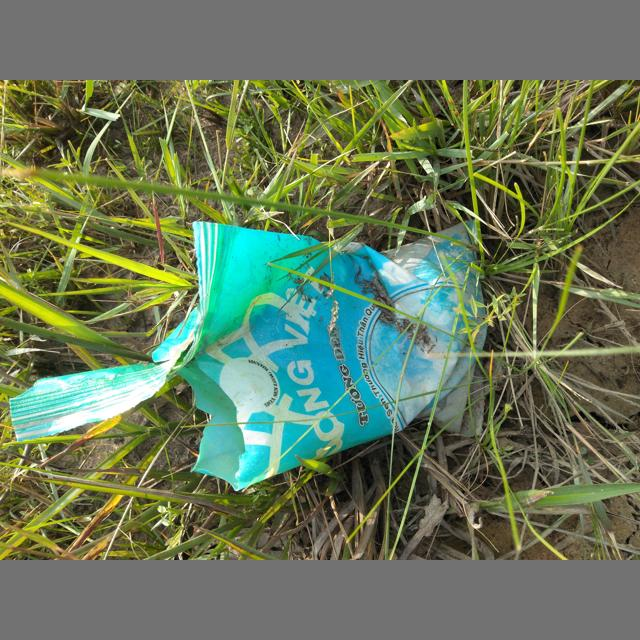litter: (9, 220, 488, 491)
